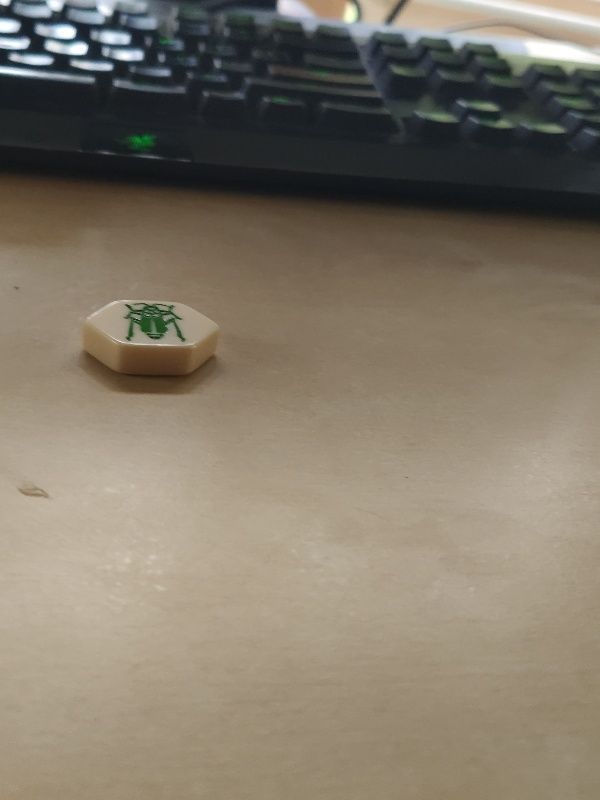white_grasshopper: (79, 293, 228, 377)
